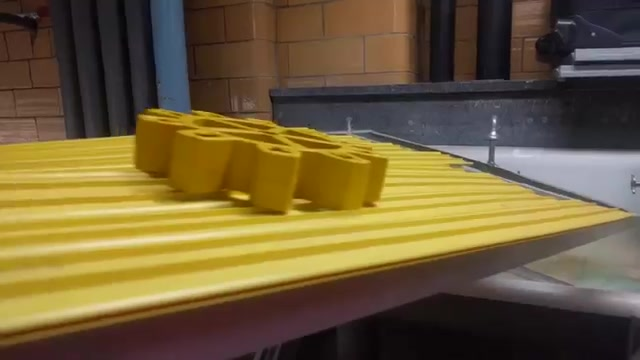gear: (126, 88, 398, 225)
